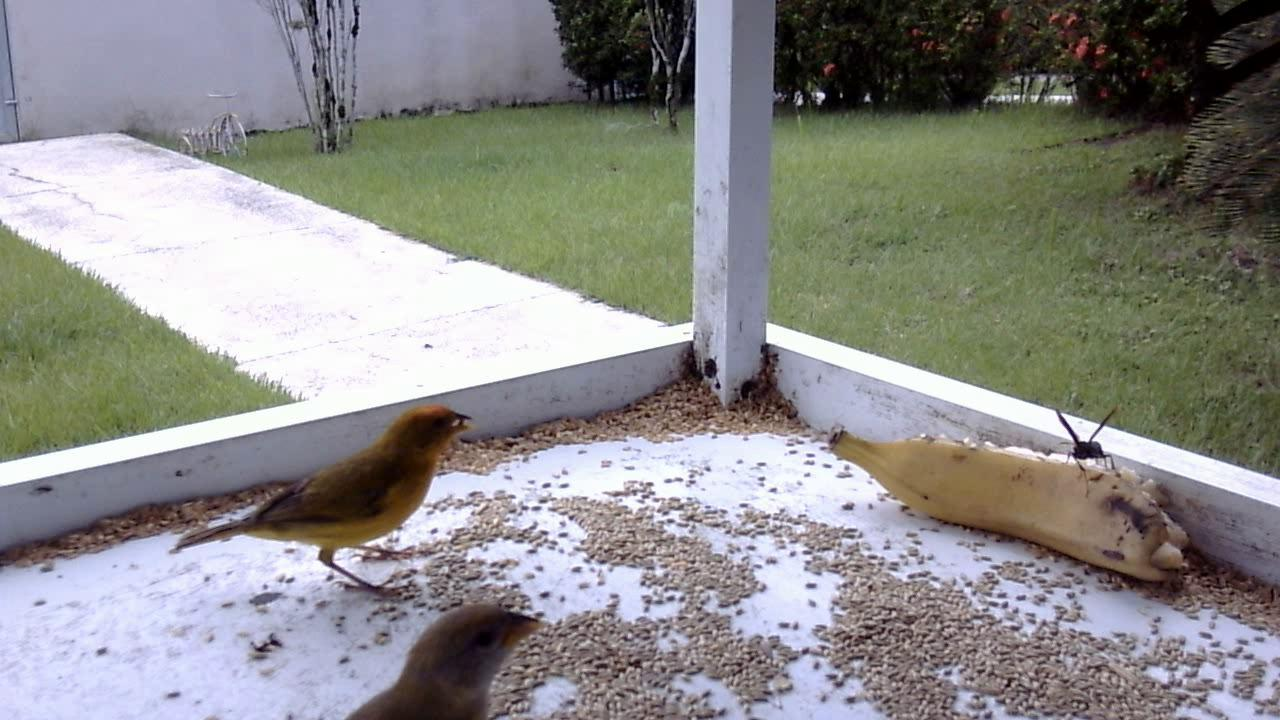canario_do_amazonas: (163, 395, 485, 609), (324, 597, 550, 715)
